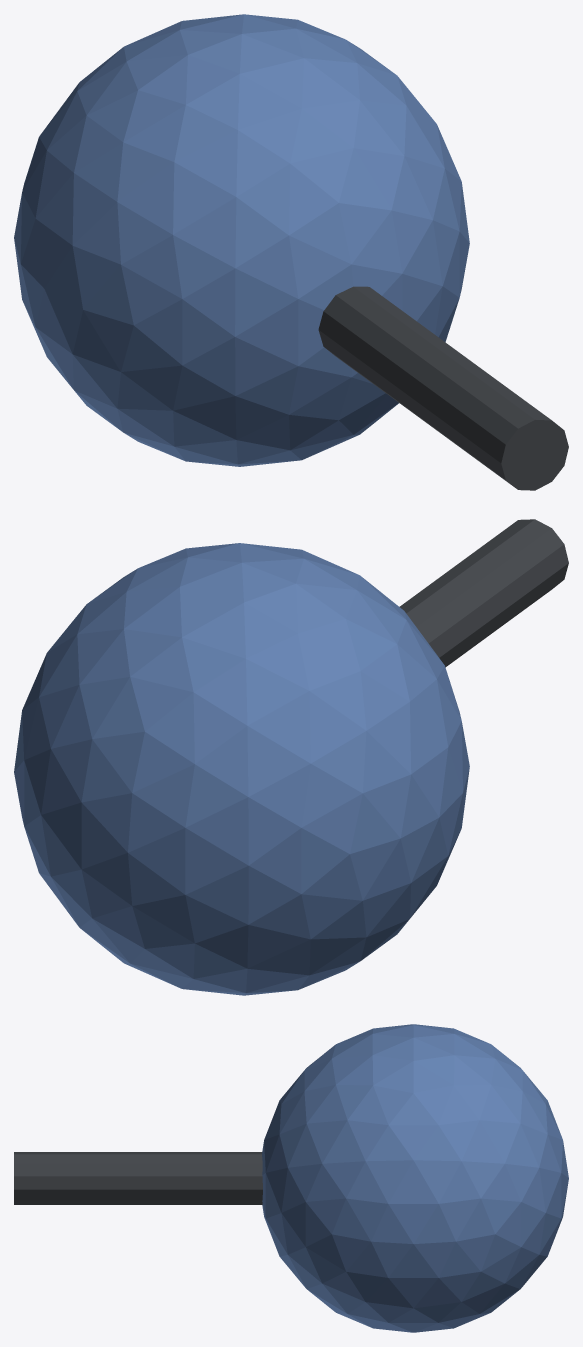
The picture shows the model from 3 angles, top to bottom: view 1: azimuth 30°, elevation 25°; view 2: azimuth 150°, elevation 25°; view 3: azimuth 270°, elevation 25°; orthographic projection. The views are drawn at different scales.
Visible parts, largest first — view 1: geometry_0; view 2: geometry_0; view 3: geometry_0.
Boxes of the visible parts, <box> form: geometry_0: <box>14,14,568,490</box>; geometry_0: <box>14,519,568,995</box>; geometry_0: <box>14,1024,568,1332</box>.
Size of the model in its own units: 0.14 by 0.14 by 0.25.
